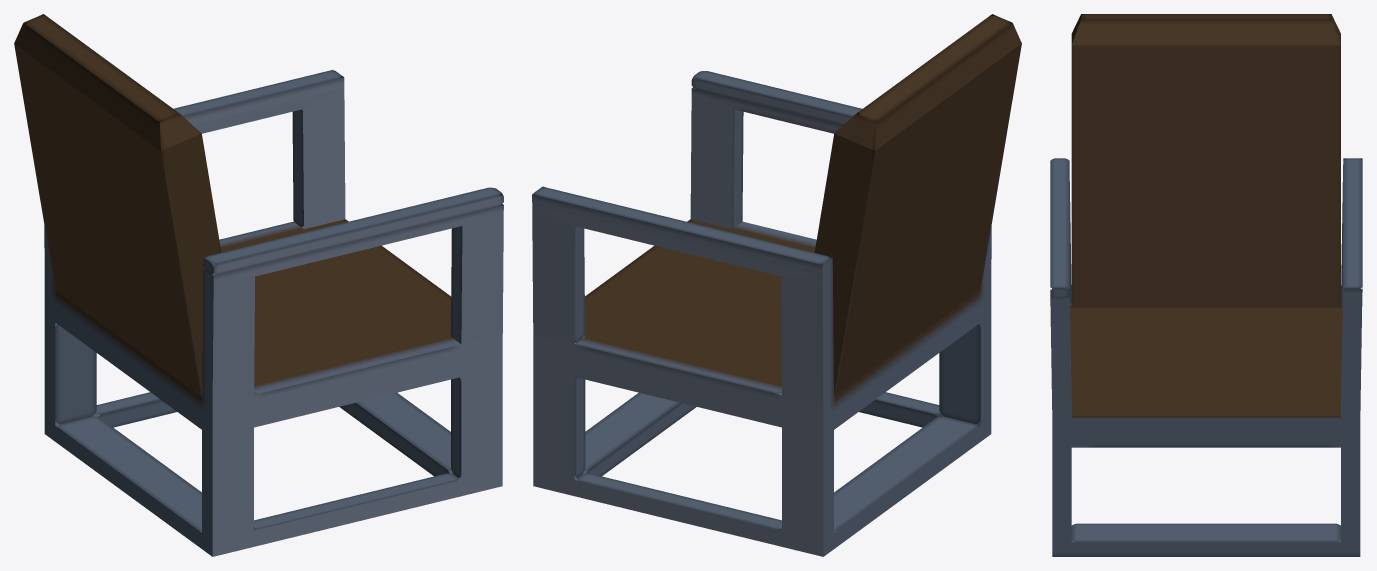
Rendered from Bench.obj.
3 views of the same model, side by side, from view 1: azimuth 30°, elevation 25°; view 2: azimuth 150°, elevation 25°; view 3: azimuth 270°, elevation 25° (orthographic). The views are drawn at different scales.
Parts seen in each view (by area): view 1: cuboid; view 2: cuboid; view 3: cuboid.
Boxes of the visible parts, <box> form: cuboid: <box>14,14,503,556</box>; cuboid: <box>532,14,1021,556</box>; cuboid: <box>1050,14,1362,556</box>.
Size of the model in its own units: 0.9991 by 1.26 by 0.8885.
Materials: 1 (1 with a texture image).
